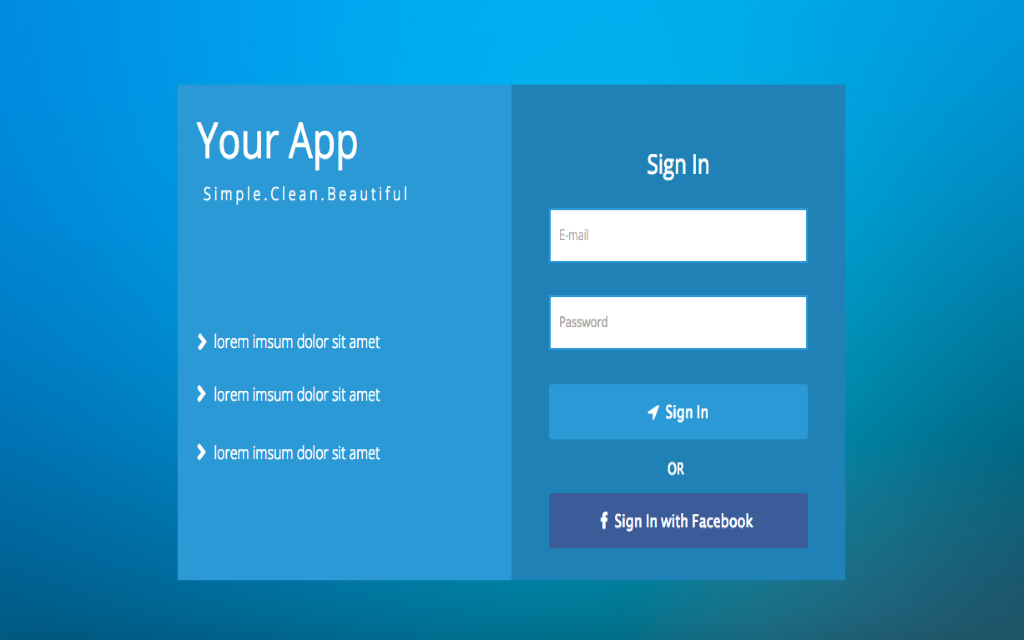button: (548, 381, 808, 439)
button_SignIn: (548, 380, 812, 437)
label_SignIn: (662, 401, 710, 422)
label_email: (556, 225, 597, 244)
label_password: (558, 314, 612, 331)
textbox: (550, 210, 806, 262), (550, 298, 806, 348)
textbox_Password: (548, 297, 807, 350)
textbox_username: (549, 210, 807, 263)
